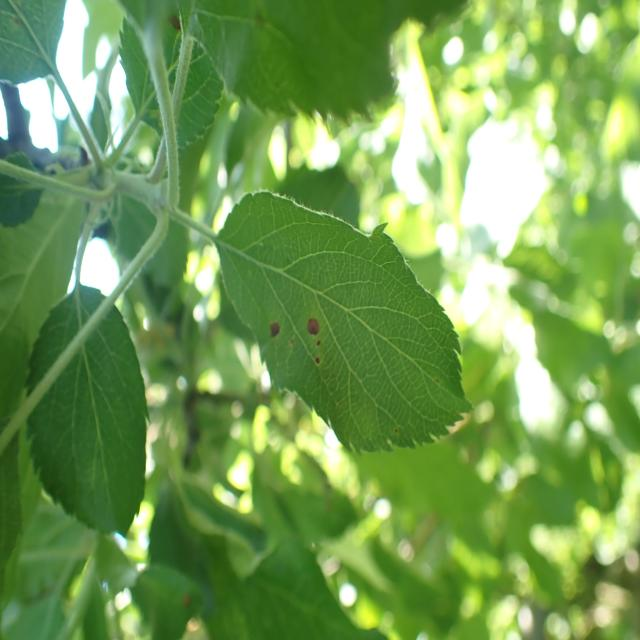Black Rot: (303, 301, 340, 386), (261, 301, 291, 349)
